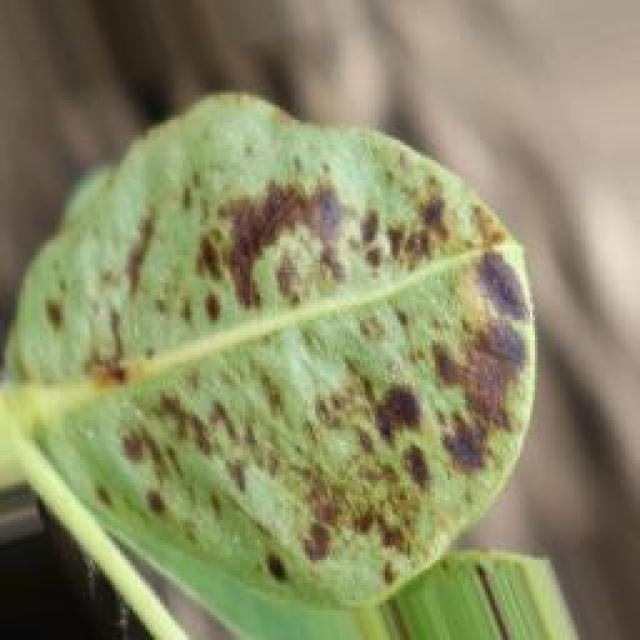Whitefly: (19, 112, 571, 613)
